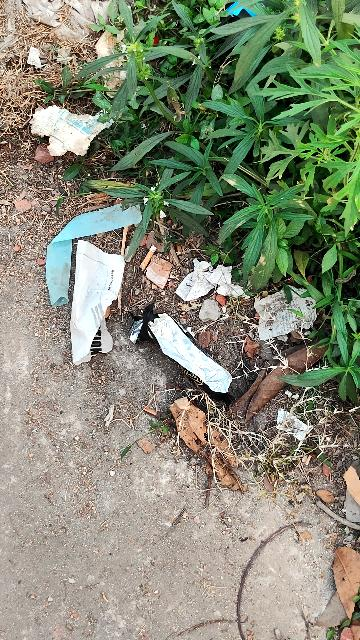packet: (144, 304, 249, 408), (69, 241, 118, 358)
